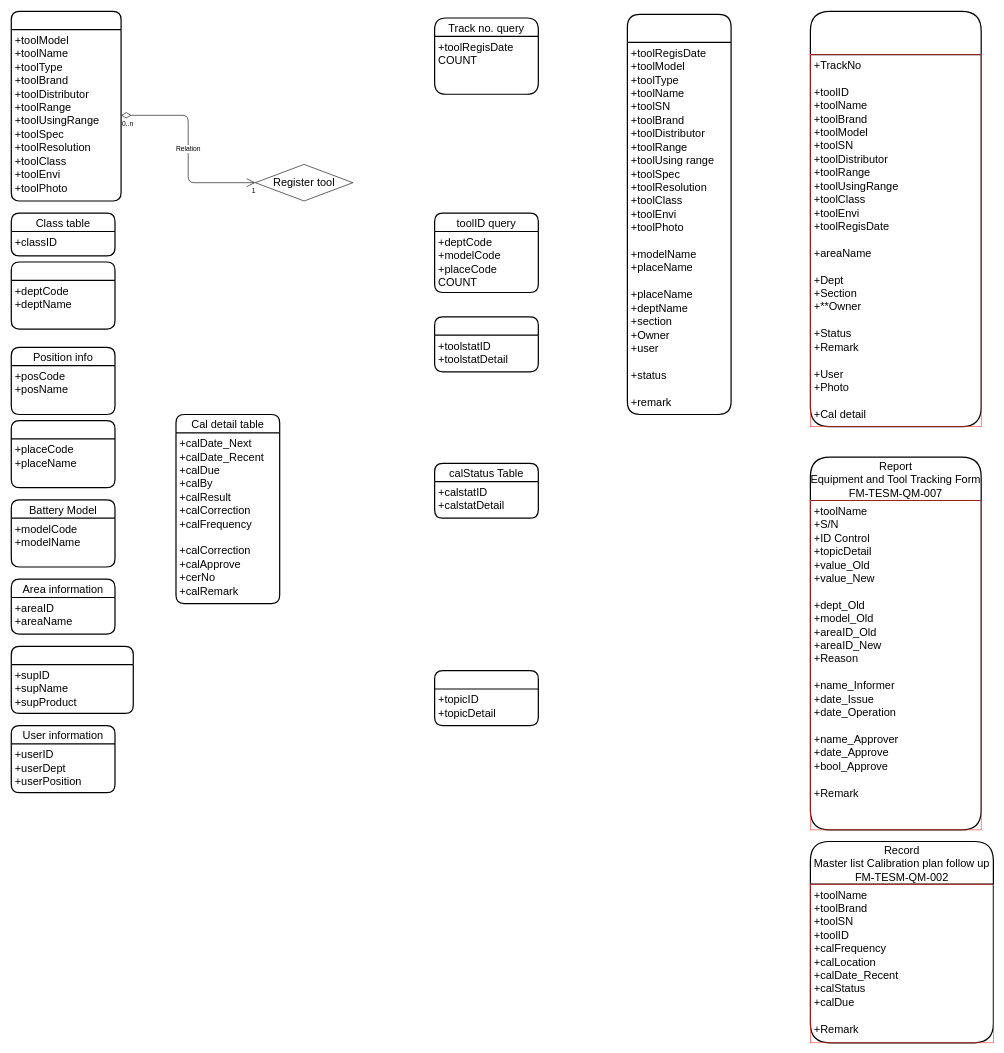
Image size: 1004x1053. Some labels were removed from this diagram. The box of each missing label's shape, as (x1, y1, x2, y2) in pixels:
Dept Info: (10, 261, 115, 329)
Place info: (10, 420, 115, 488)
Report Equipment and Tool Datasheet FM-TESM-QM-006: (809, 10, 981, 427)
Supplier information: (10, 645, 134, 714)
Table Tool list: (626, 13, 731, 415)
Tool Name table: (10, 10, 121, 201)
toolStatus Table: (434, 316, 539, 372)
Topic Table: (434, 670, 539, 726)
